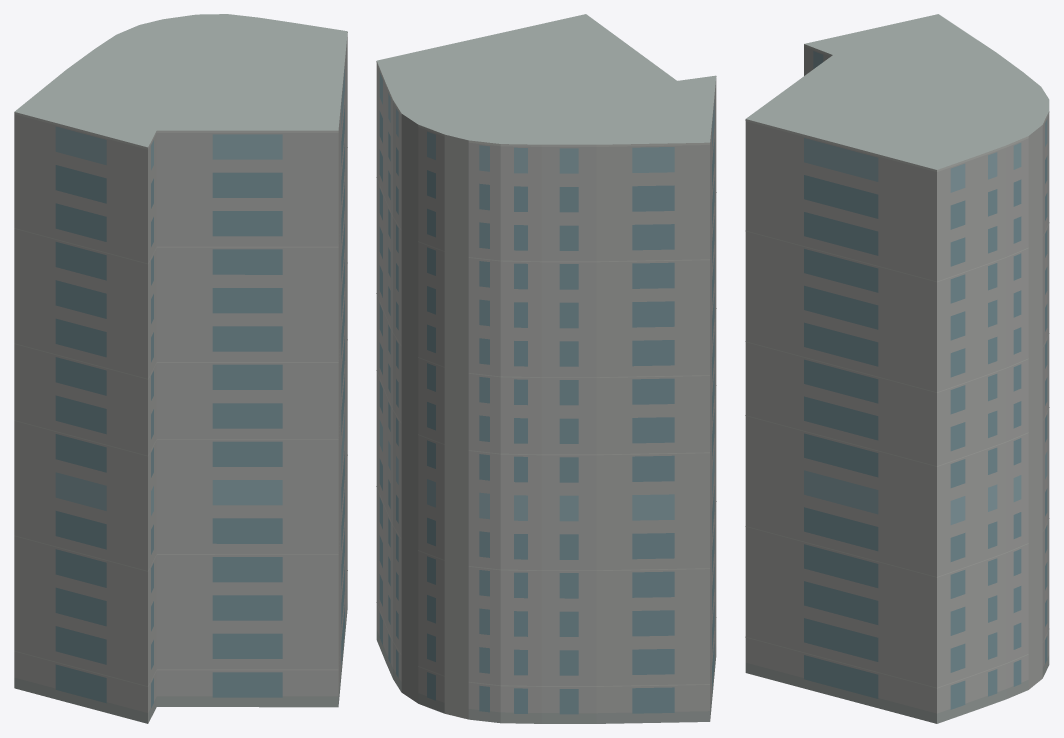
Rendered from residential-7ad7d031-8741-462e-b480-9d80af935ca8.glb.
The picture shows the model from 3 angles, left to right: view 1: azimuth 30°, elevation 25°; view 2: azimuth 150°, elevation 25°; view 3: azimuth 270°, elevation 25°; orthographic projection. The views are drawn at different scales.
Parts seen in each view (by area): view 1: residential-7ad7d031-8741-462e-b480-9d80af935ca8.tmp; view 2: residential-7ad7d031-8741-462e-b480-9d80af935ca8.tmp; view 3: residential-7ad7d031-8741-462e-b480-9d80af935ca8.tmp.
Part boxes in pixels (x1,y1,x2,y2): residential-7ad7d031-8741-462e-b480-9d80af935ca8.tmp: [14, 14, 347, 723]; residential-7ad7d031-8741-462e-b480-9d80af935ca8.tmp: [376, 14, 716, 723]; residential-7ad7d031-8741-462e-b480-9d80af935ca8.tmp: [745, 14, 1049, 723].
Size of the model in its own units: 37.47 by 62 by 30.85.
